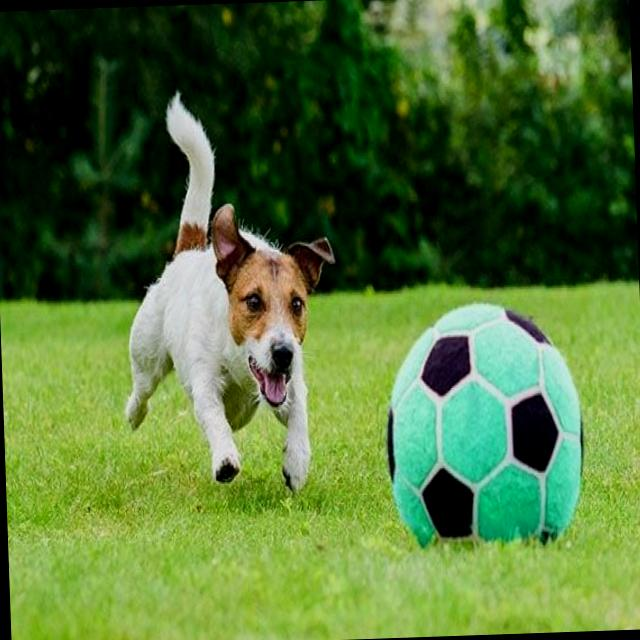Soccer Ball: (382, 302, 588, 564)
